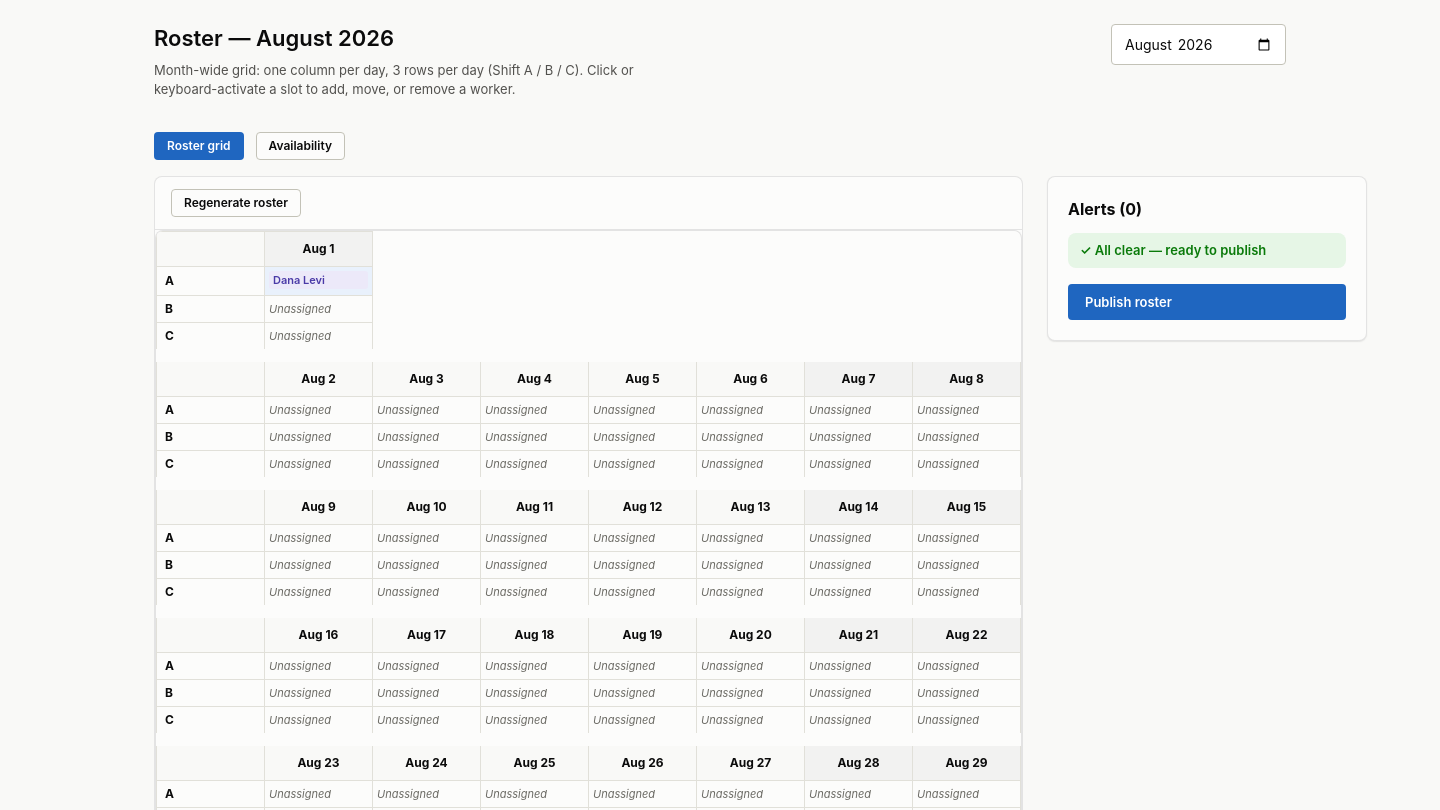
Scenario: RosterPage › moves a worker between two slots as one action — the worker leaves the source and appears in the target
Click the cell with test id "cal-cell-2026-08-01-A" at (318, 281), box [264, 266, 372, 296]
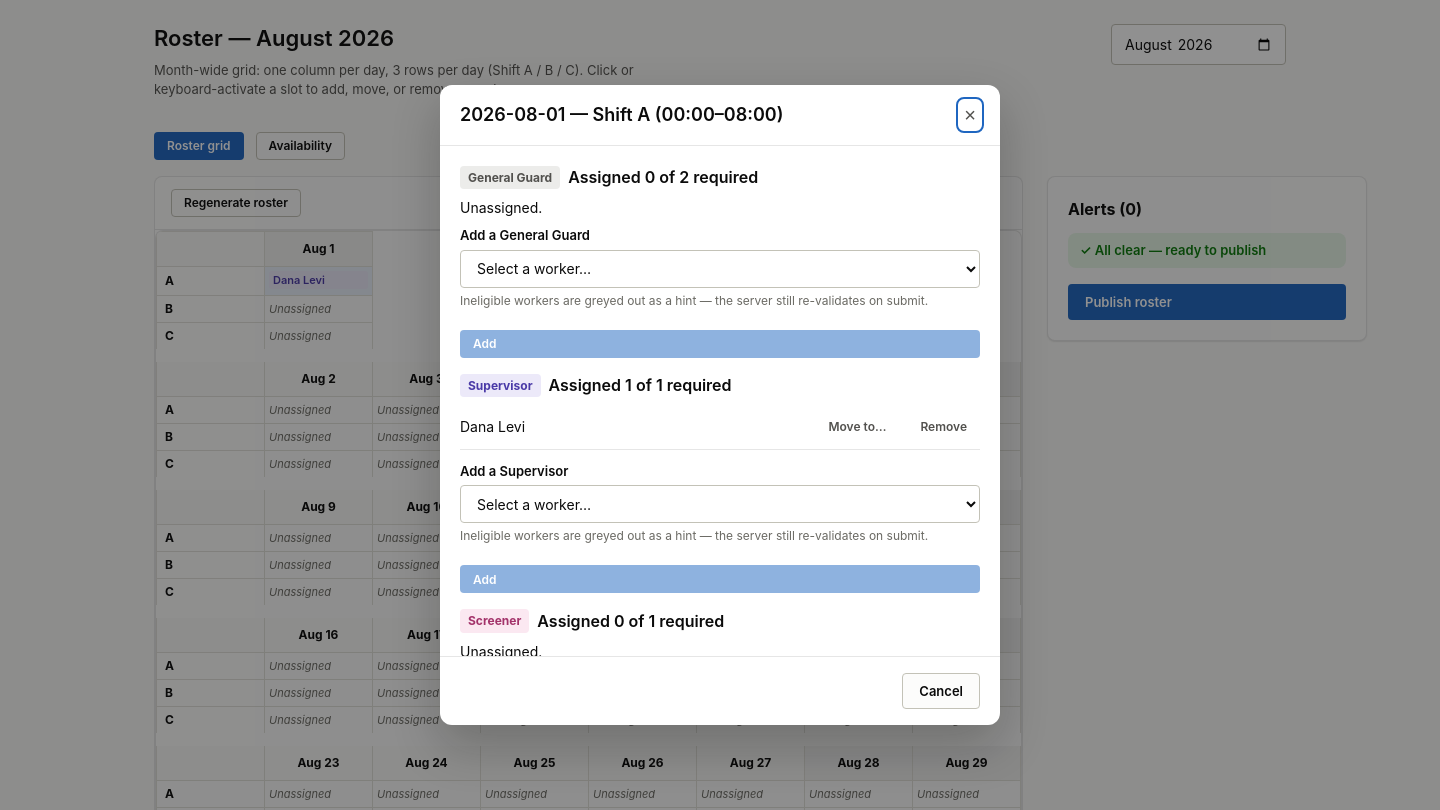
Click the button "Move to…" at (857, 427), box [815, 413, 899, 441]
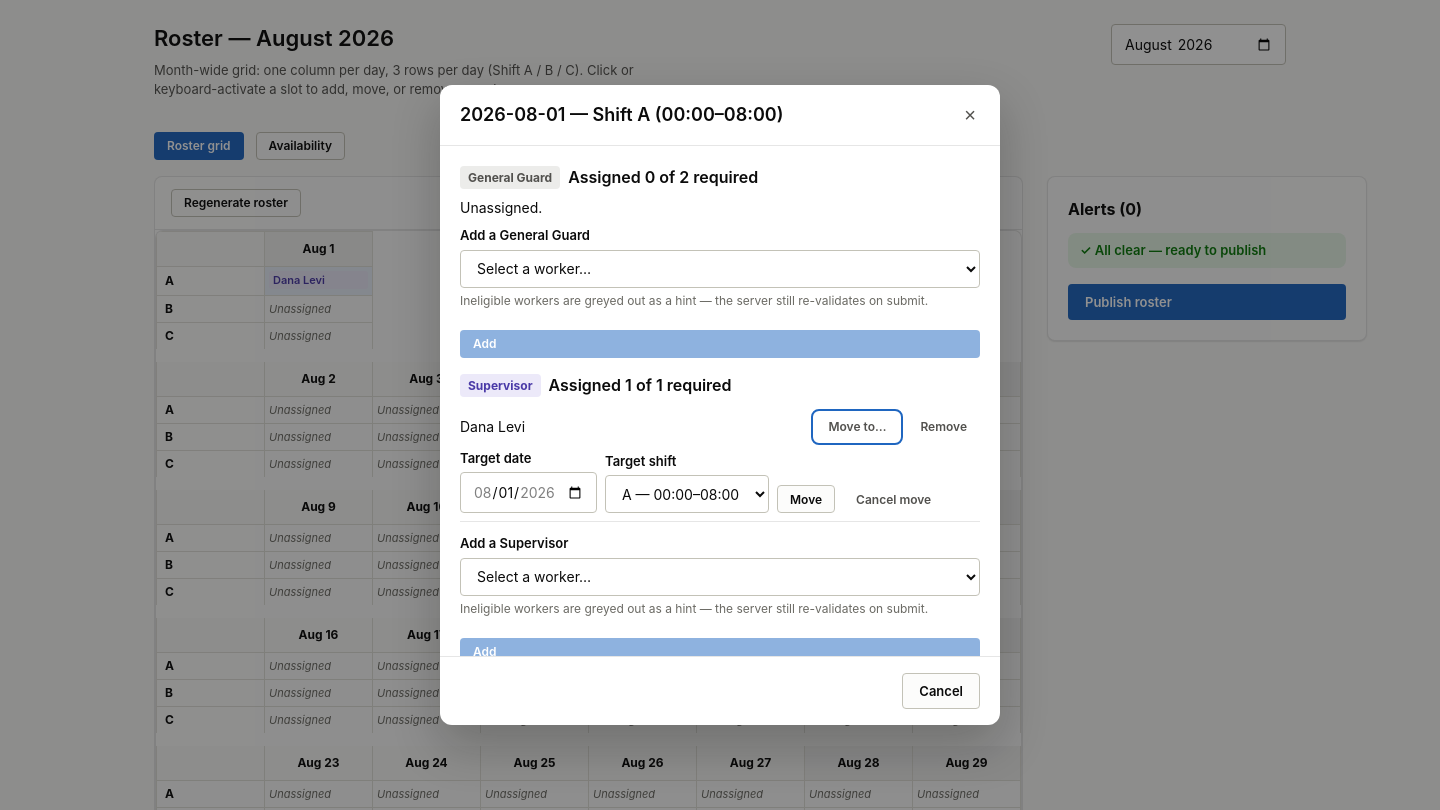
Type "2026-08-02" into the date field labelled "Target date" at (528, 493), box [460, 472, 597, 513]
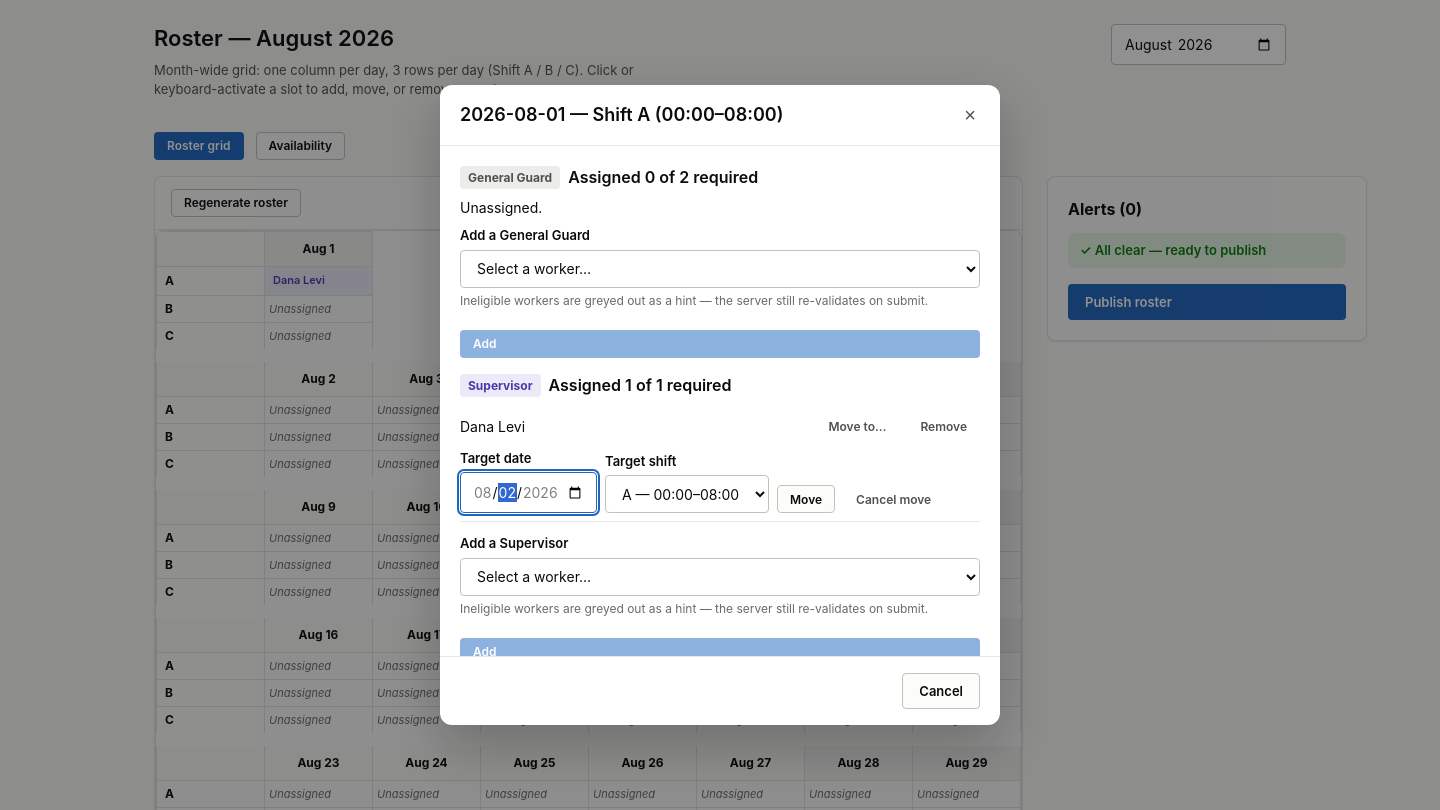
Click the button "Move" at (806, 499), box [777, 485, 835, 513]
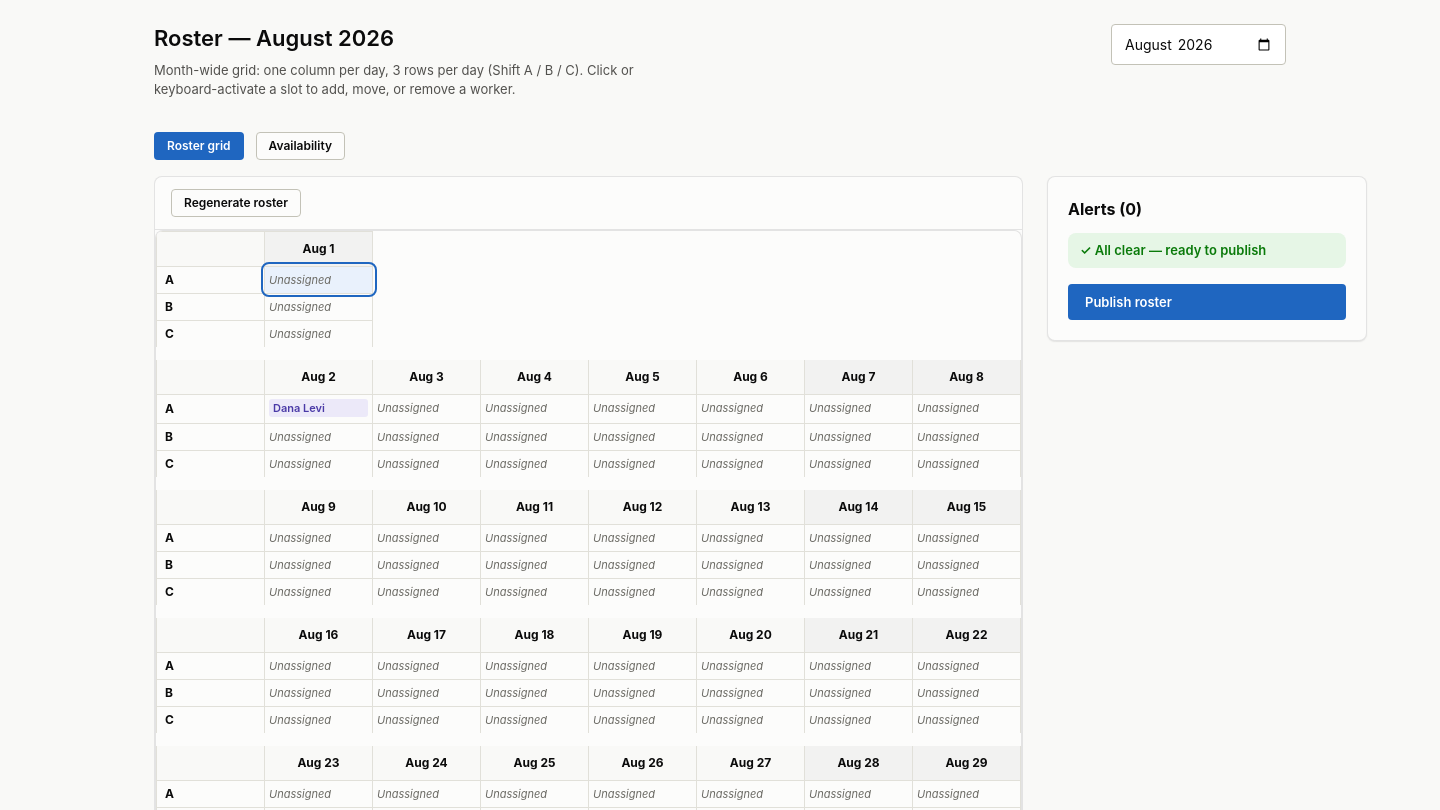
Expected: the text "Dana Levi" is shown, [269, 399, 368, 417]
Expected: the dialog is gone
